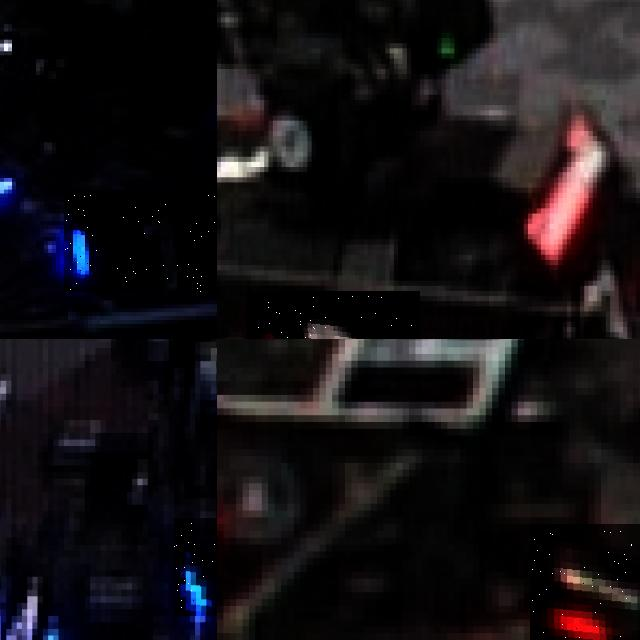B1: (64, 189, 217, 292)
B4: (0, 563, 74, 640)
R1: (530, 524, 640, 639)
R3: (247, 291, 420, 339)
